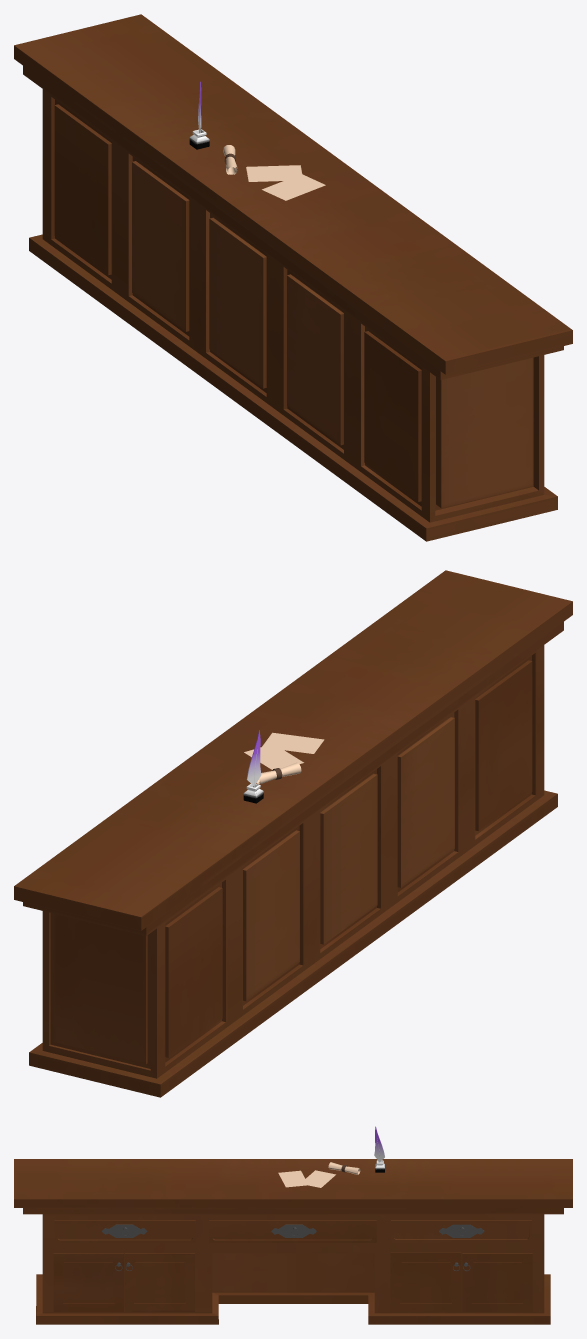
The model's file is MEJA TULIS.fbx.
3 views of the same model, one above another, from view 1: azimuth 30°, elevation 25°; view 2: azimuth 150°, elevation 25°; view 3: azimuth 270°, elevation 25° (orthographic). The views are drawn at different scales.
Visible parts, largest first — view 1: Cube.009, Plane.006, Plane.007; view 2: Cube.009, Plane.006, Plane.007; view 3: Cube.009, Cube.003, Cube.005, Cube.002, Cube.004, Cube.006, Cube.001, Cube.008, Plane.002, Plane.001, Plane.005, Plane.006 (+1 smaller).
Part boxes in pixels (x1=…): Cube.009: x1=14, y1=14, x2=572, y2=541; Plane.006: x1=262, y1=174, x2=325, y2=200; Plane.007: x1=246, y1=165, x2=302, y2=181; Cube.009: x1=14, y1=570, x2=572, y2=1097; Plane.006: x1=262, y1=732, x2=324, y2=753; Plane.007: x1=244, y1=747, x2=303, y2=769; Cube.009: x1=14, y1=1159, x2=572, y2=1324; Cube.003: x1=390, y1=1252, x2=461, y2=1311; Cube.005: x1=124, y1=1253, x2=194, y2=1311; Cube.002: x1=53, y1=1253, x2=123, y2=1311; Cube.004: x1=462, y1=1253, x2=532, y2=1311; Cube.006: x1=209, y1=1220, x2=376, y2=1242; Cube.001: x1=54, y1=1220, x2=195, y2=1242; Cube.008: x1=391, y1=1220, x2=531, y2=1242; Plane.002: x1=439, y1=1224, x2=484, y2=1237; Plane.001: x1=102, y1=1224, x2=147, y2=1237; Plane.005: x1=271, y1=1224, x2=316, y2=1237; Plane.006: x1=278, y1=1170, x2=308, y2=1187.
Size of the model in its own units: 194 by 366 by 1104.
7 materials, 7 textured.
